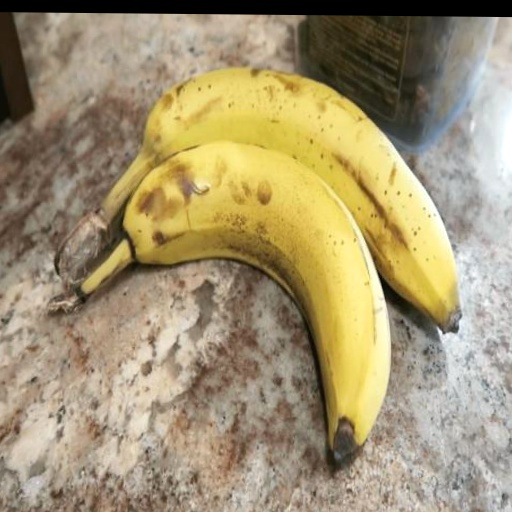fruit: (49, 142, 390, 460), (56, 69, 461, 331)
